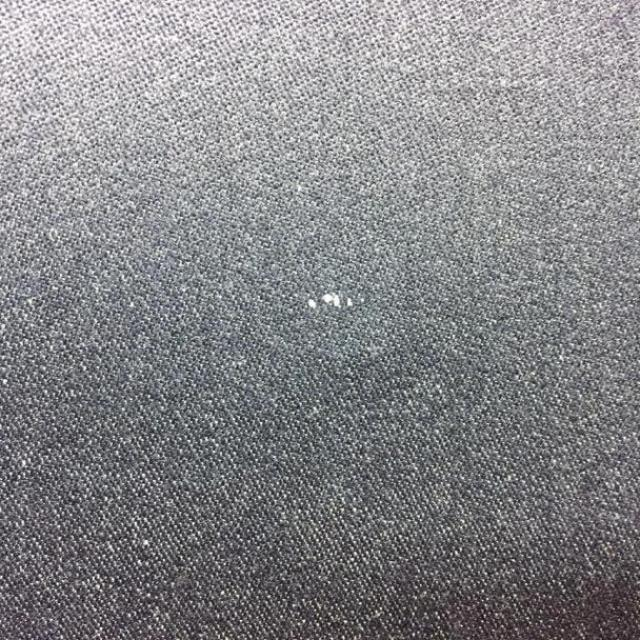Knot: (307, 292, 356, 309)
